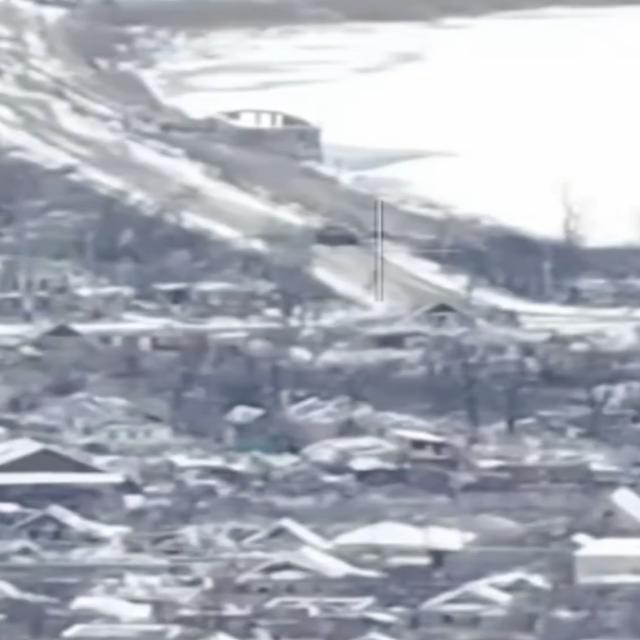vehicle: (314, 223, 356, 247)
